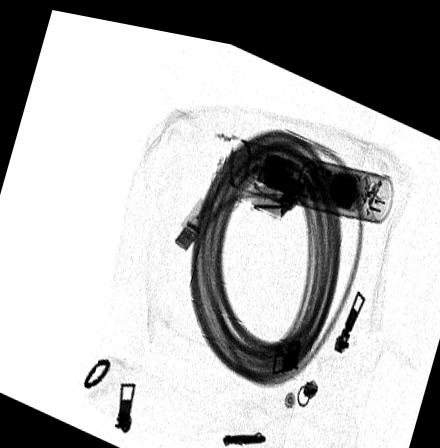Baton: (228, 128, 396, 209)
